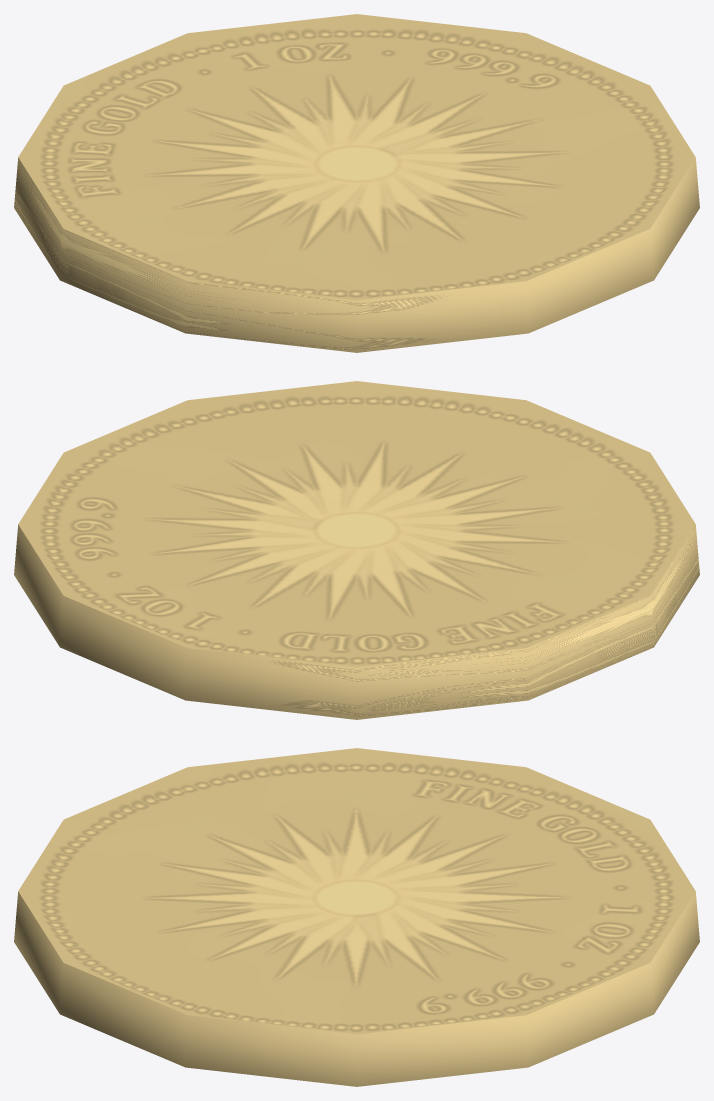
File: GoldCoin_LOD2.obj
3 renders of one model, top to bottom at view 1: azimuth 30°, elevation 25°; view 2: azimuth 150°, elevation 25°; view 3: azimuth 270°, elevation 25°, orthographic.
Parts seen in each view (by area): view 1: GoldCoin; view 2: GoldCoin; view 3: GoldCoin.
Boxes of the visible parts, x1,y1,x2,y2 form: GoldCoin: [14, 14, 699, 352]; GoldCoin: [14, 381, 699, 719]; GoldCoin: [14, 748, 699, 1086].
Size of the model in its own units: 0.0327 by 0.00287 by 0.0327.
Materials: 1 (1 with a texture image).
